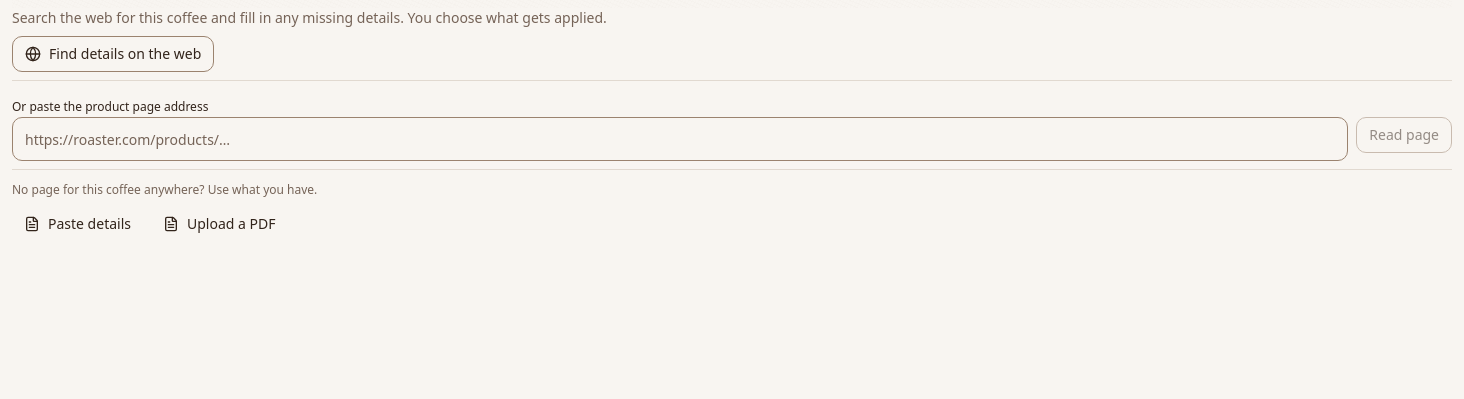
Test case: EnrichPanel details without a page › parses pasted details and reviews them like a page
The image size is (1464, 399).
Click the button "Paste details" at (78, 224), box [12,206,143,242]
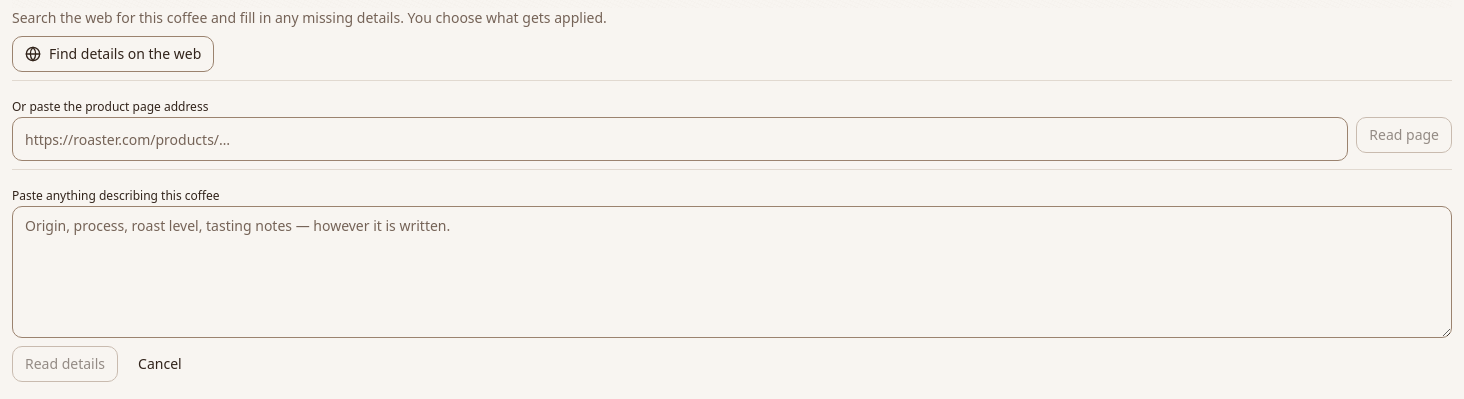
Click the text box labelled "Paste anything describing this coffee" at (732, 272), box [12,206,1452,338]
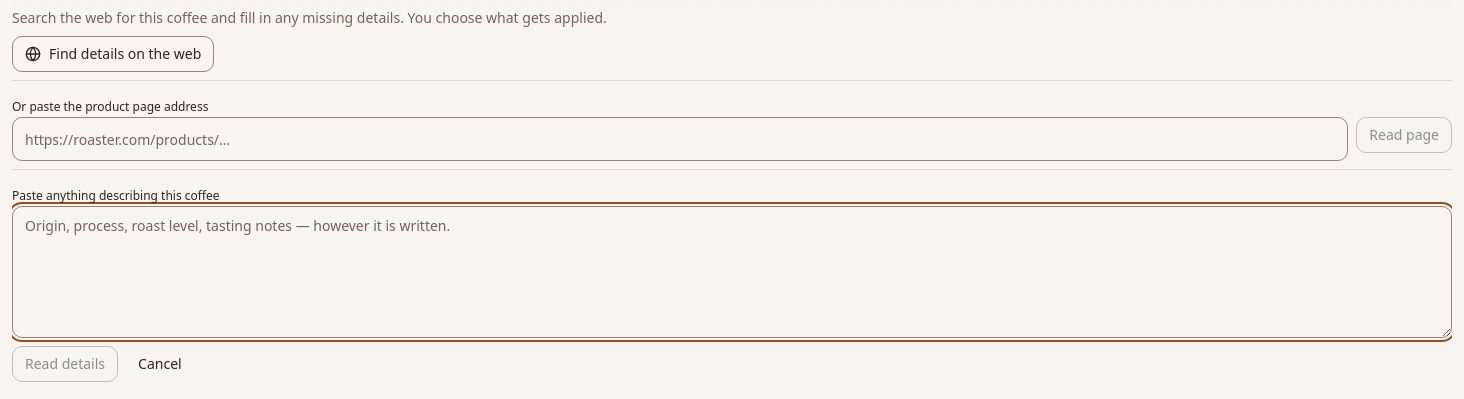
Type keys "Washed Ethiopia, medium roast, citrus and cocoa."
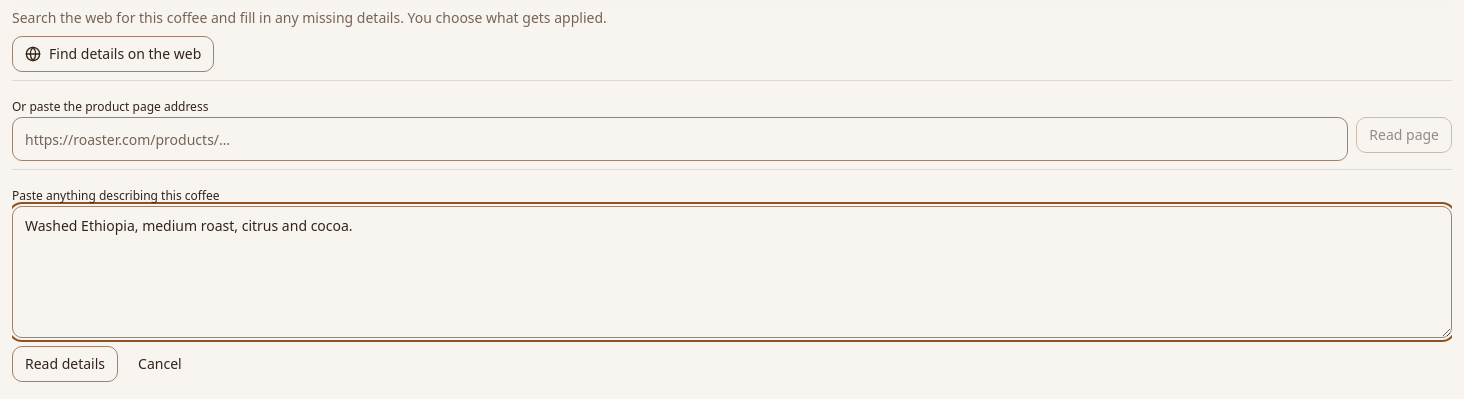
Click the button "Read details" at (65, 364), box [12,346,118,382]
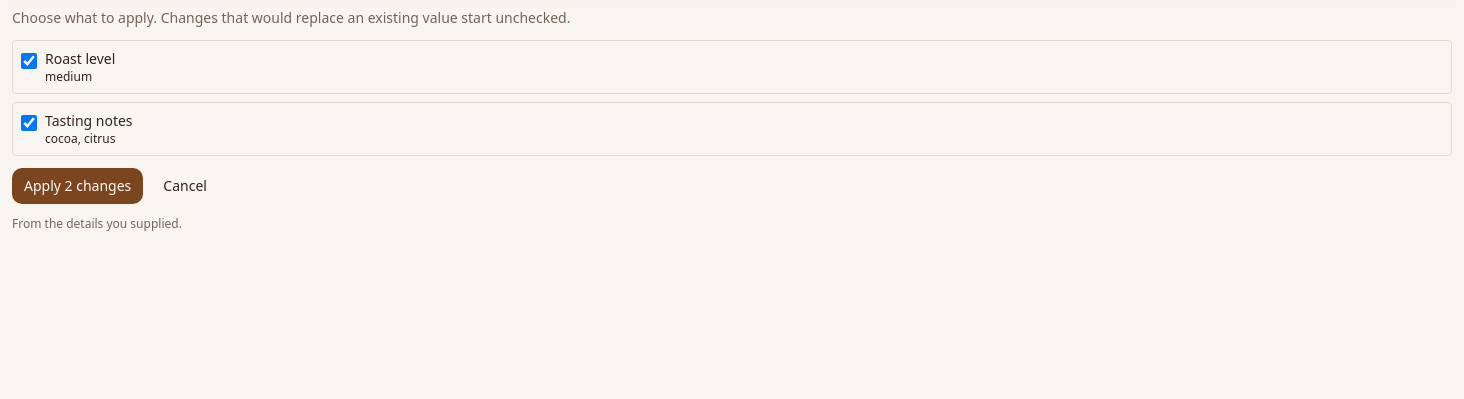
Now the list named "proposed changes" is shown, box [12,40,1452,156]
